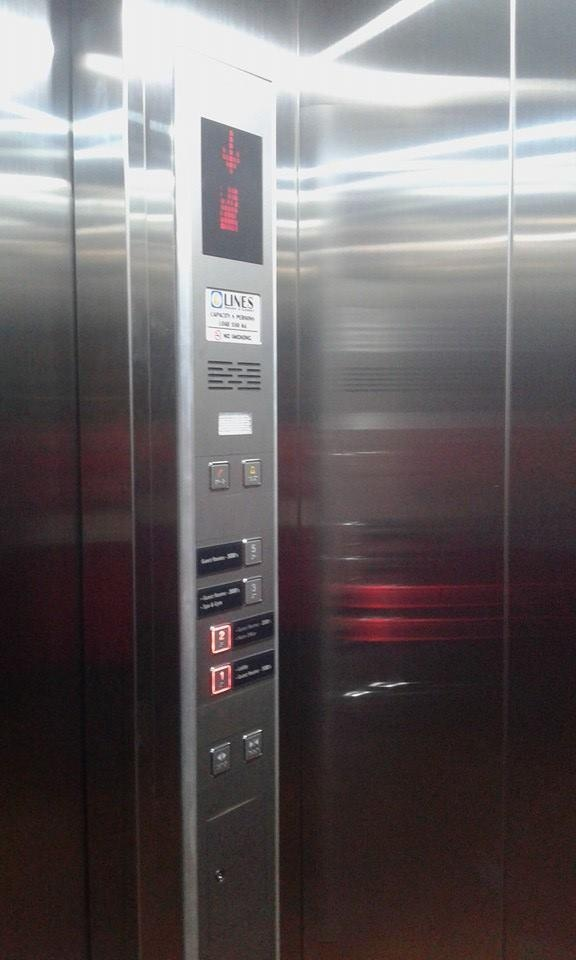1: (210, 660, 233, 699)
2: (209, 622, 233, 655)
3: (242, 573, 265, 607)
5: (242, 534, 264, 566)
alarm: (241, 457, 264, 487)
blur: (207, 460, 232, 491)
close: (242, 728, 264, 764)
led: (202, 118, 264, 267)
open: (209, 740, 233, 778)
